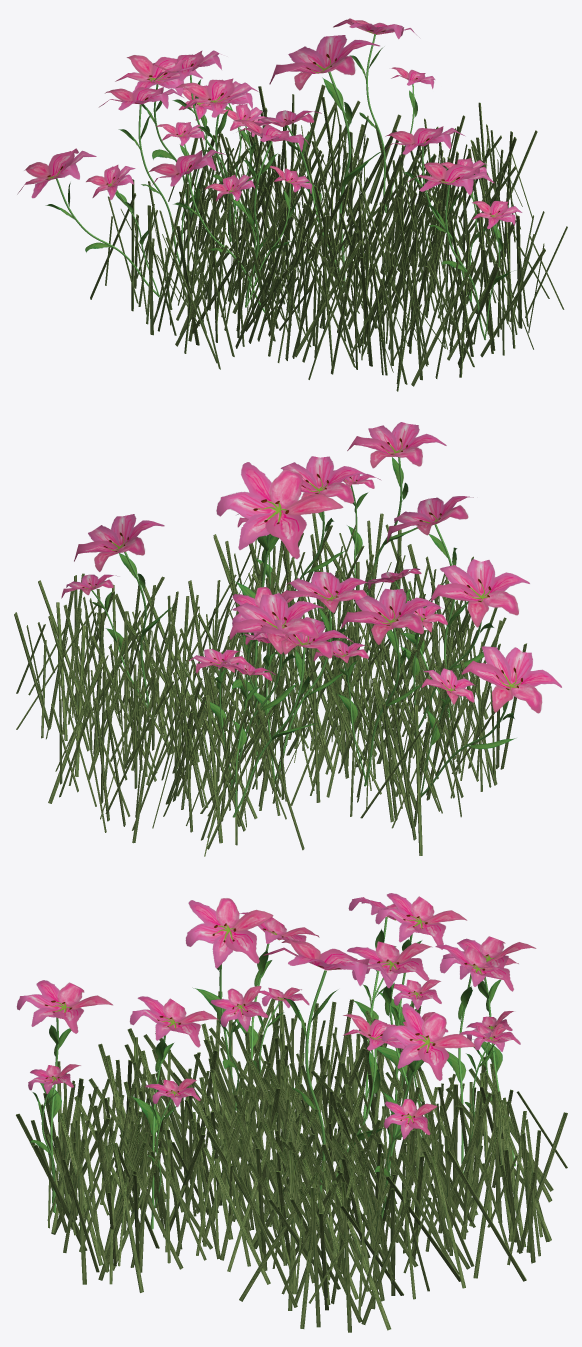
The model's file is lys.glb.
3 renders of one model, top to bottom at view 1: azimuth 30°, elevation 25°; view 2: azimuth 150°, elevation 25°; view 3: azimuth 270°, elevation 25°, orthographic. The views are drawn at different scales.
Visible parts, largest first — view 1: iris (×11), Cube.012; view 2: iris (×11), Cube.012 (×4); view 3: iris (×11), Cube.012 (×21).
Boxes of the visible parts, bbox=[...] form: iris (×11): bbox=[17, 18, 522, 340]; Cube.012: bbox=[411, 261, 474, 386]; iris (×11): bbox=[61, 422, 561, 817]; Cube.012 (×4): bbox=[48, 648, 422, 855]; iris (×11): bbox=[16, 893, 536, 1229]; Cube.012 (×21): bbox=[58, 1091, 535, 1332].
Size of the model in its own units: 1.3 by 0.6622 by 1.11.
Materials: 5 (4 with a texture image).
